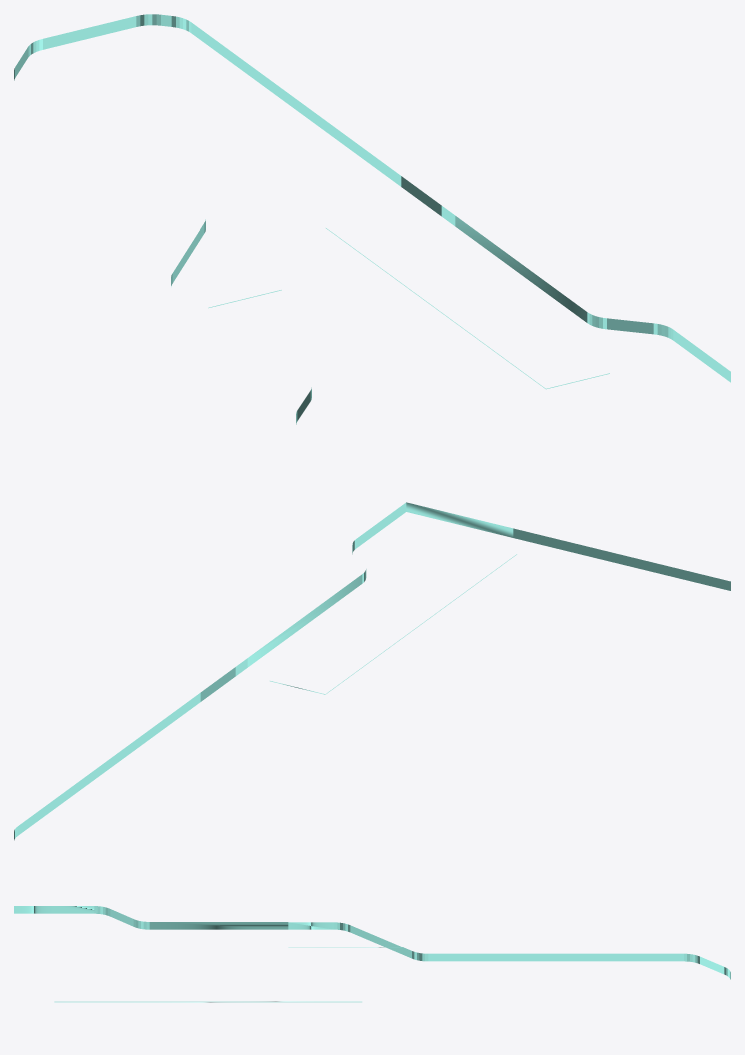
The model's file is plate_custom_surface_a.glb.
The picture shows the model from 3 angles, top to bottom: view 1: azimuth 30°, elevation 25°; view 2: azimuth 150°, elevation 25°; view 3: azimuth 270°, elevation 25°; orthographic projection. The views are drawn at different scales.
Bounding box in the file's own units: 64 × 1.82 × 153.
